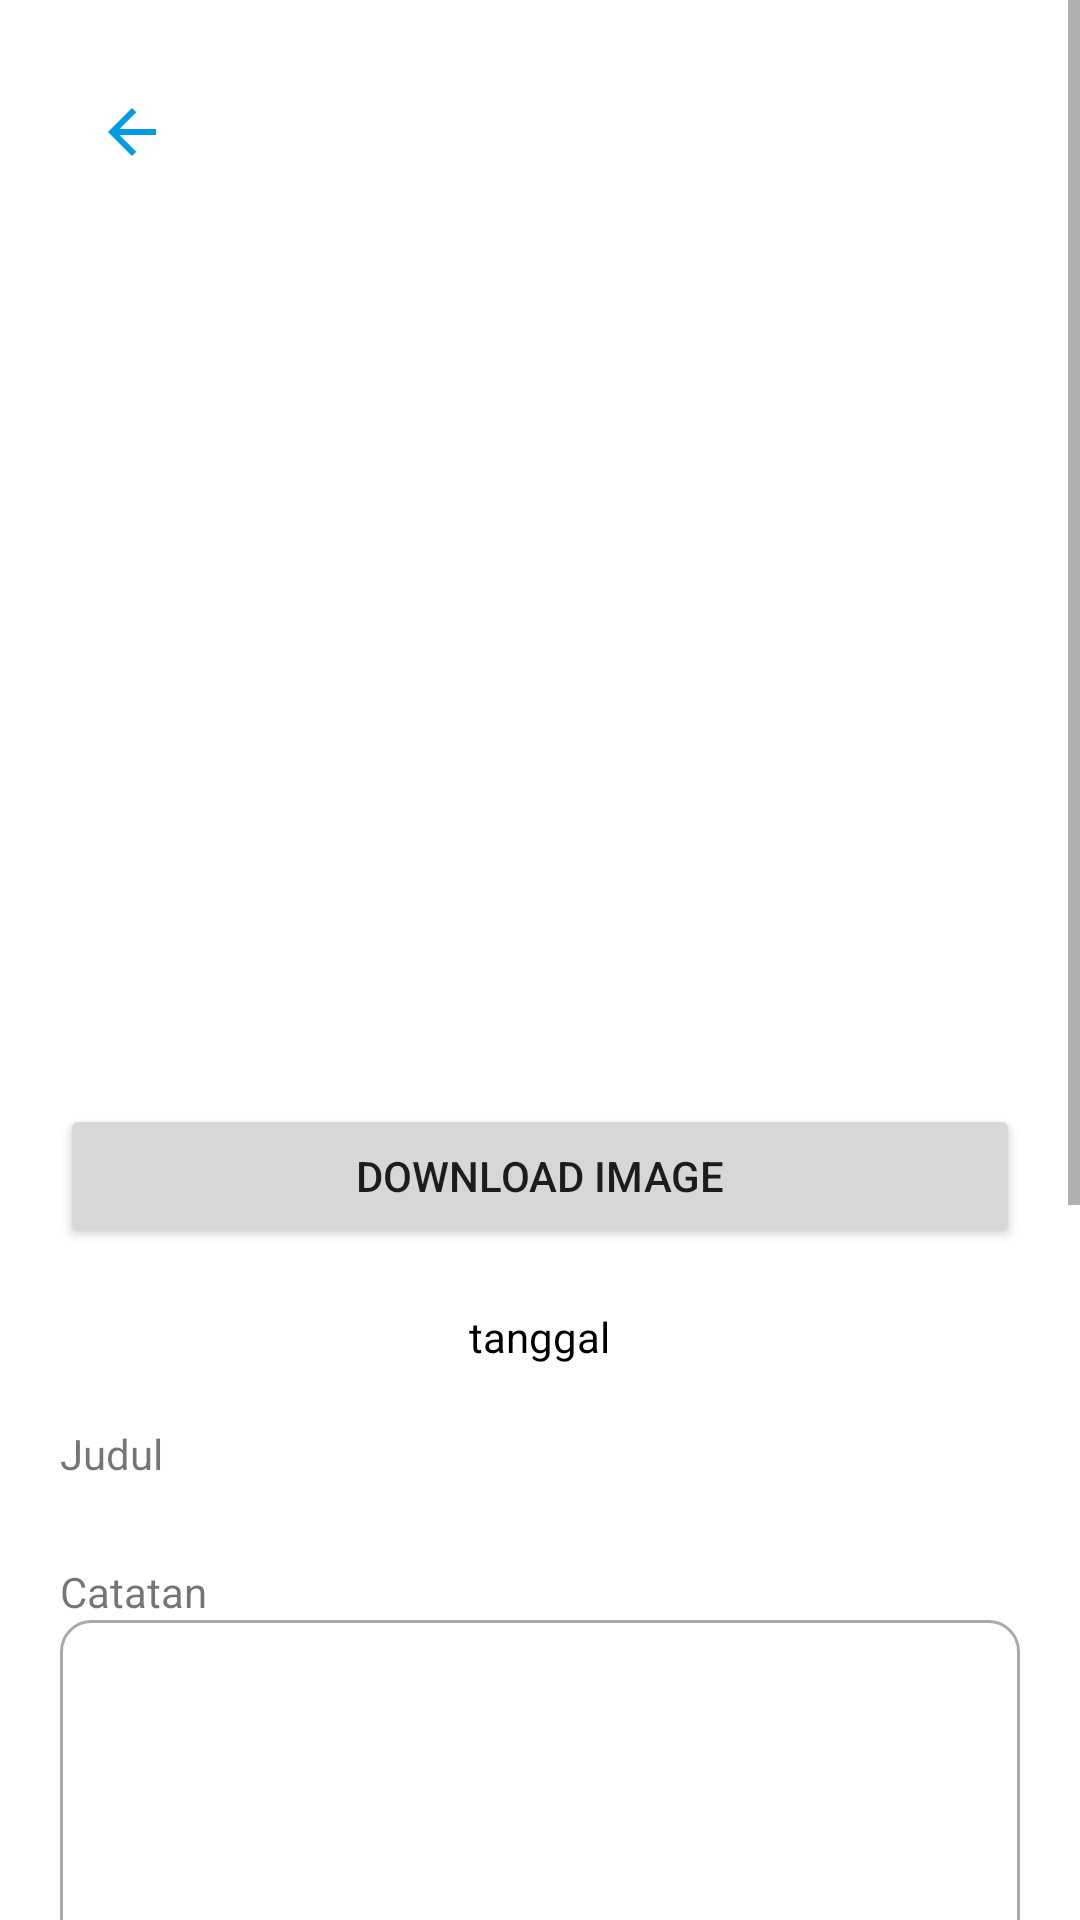

Icons on this 1080px x 1920px Android screen, each with its box as (x1, y1, x2, y2):
arrow back for frag: (108, 108, 156, 156)
